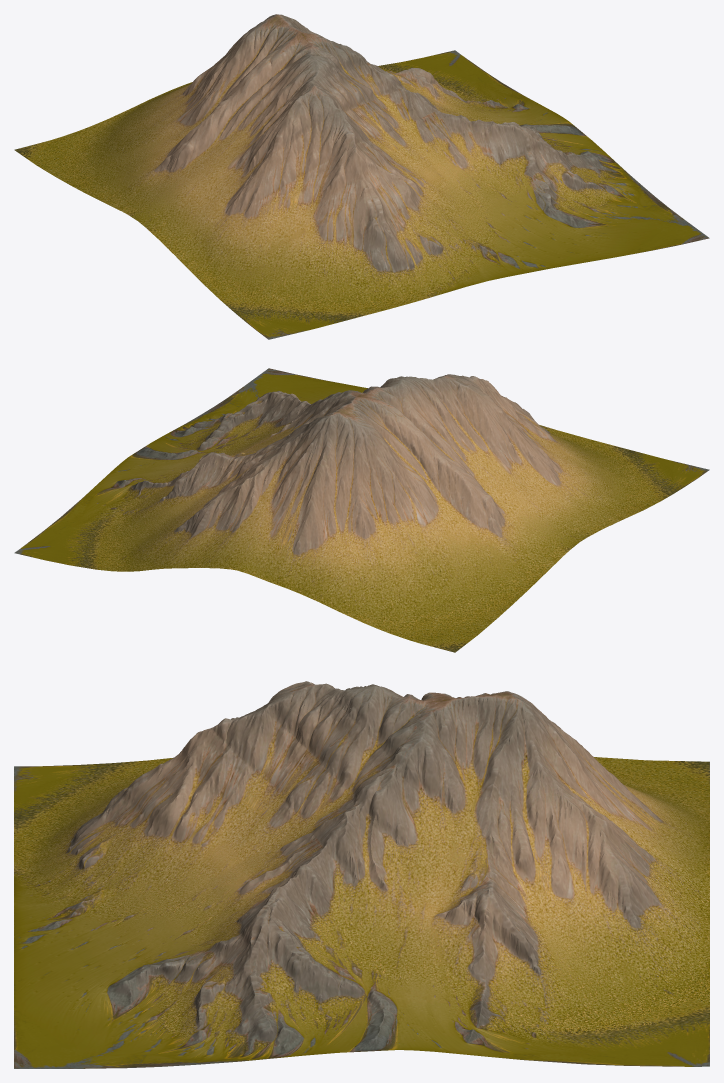
File: druid_hills.glb
The picture shows the model from 3 angles, top to bottom: view 1: azimuth 30°, elevation 25°; view 2: azimuth 150°, elevation 25°; view 3: azimuth 270°, elevation 25°; orthographic projection. The views are drawn at different scales.
Parts seen in each view (by area): view 1: Object_2, Object_3; view 2: Object_2, Object_3; view 3: Object_2, Object_3.
Boxes of the visible parts, box(x1,y1,x2,y2) form: Object_2: box(14, 14, 709, 339); Object_3: box(57, 14, 683, 308); Object_2: box(69, 368, 709, 652); Object_3: box(14, 375, 660, 629); Object_2: box(14, 681, 709, 1068); Object_3: box(14, 684, 709, 1068).
Bounding box in the file's own units: 8000 × 2607 × 8000.
1 material, 1 textured.
